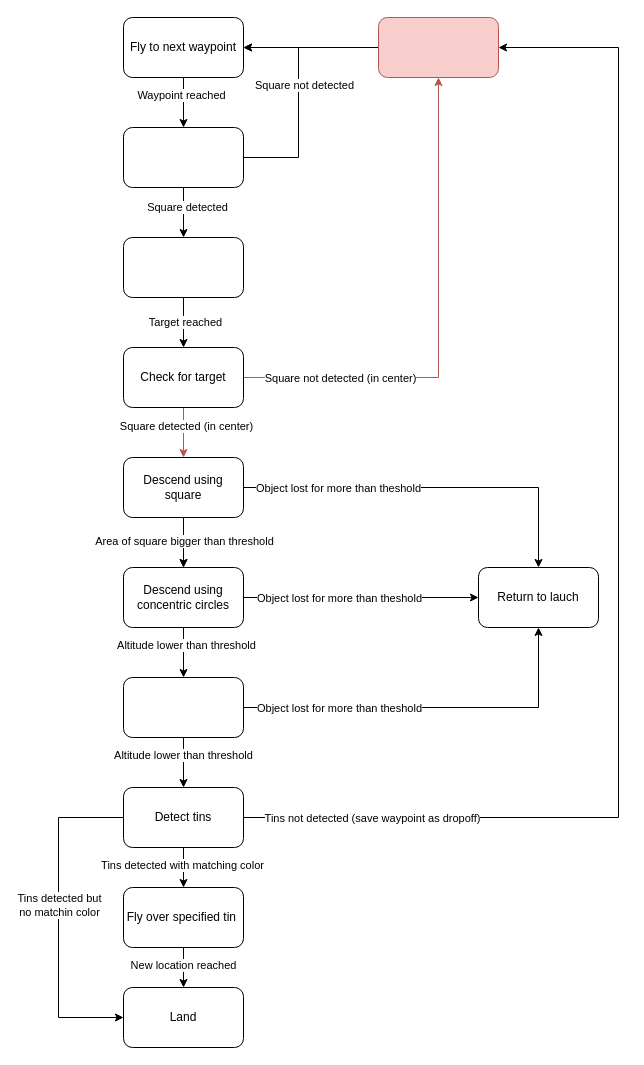
This 644x1065 diagram has some shape labels left out. Each missing label, with the box of its shape:
Climb to 10m: (378, 16, 498, 78)
Descend using inner circle: (122, 676, 244, 738)
Detect square: (122, 126, 244, 188)
Fly to target: (122, 236, 244, 298)
